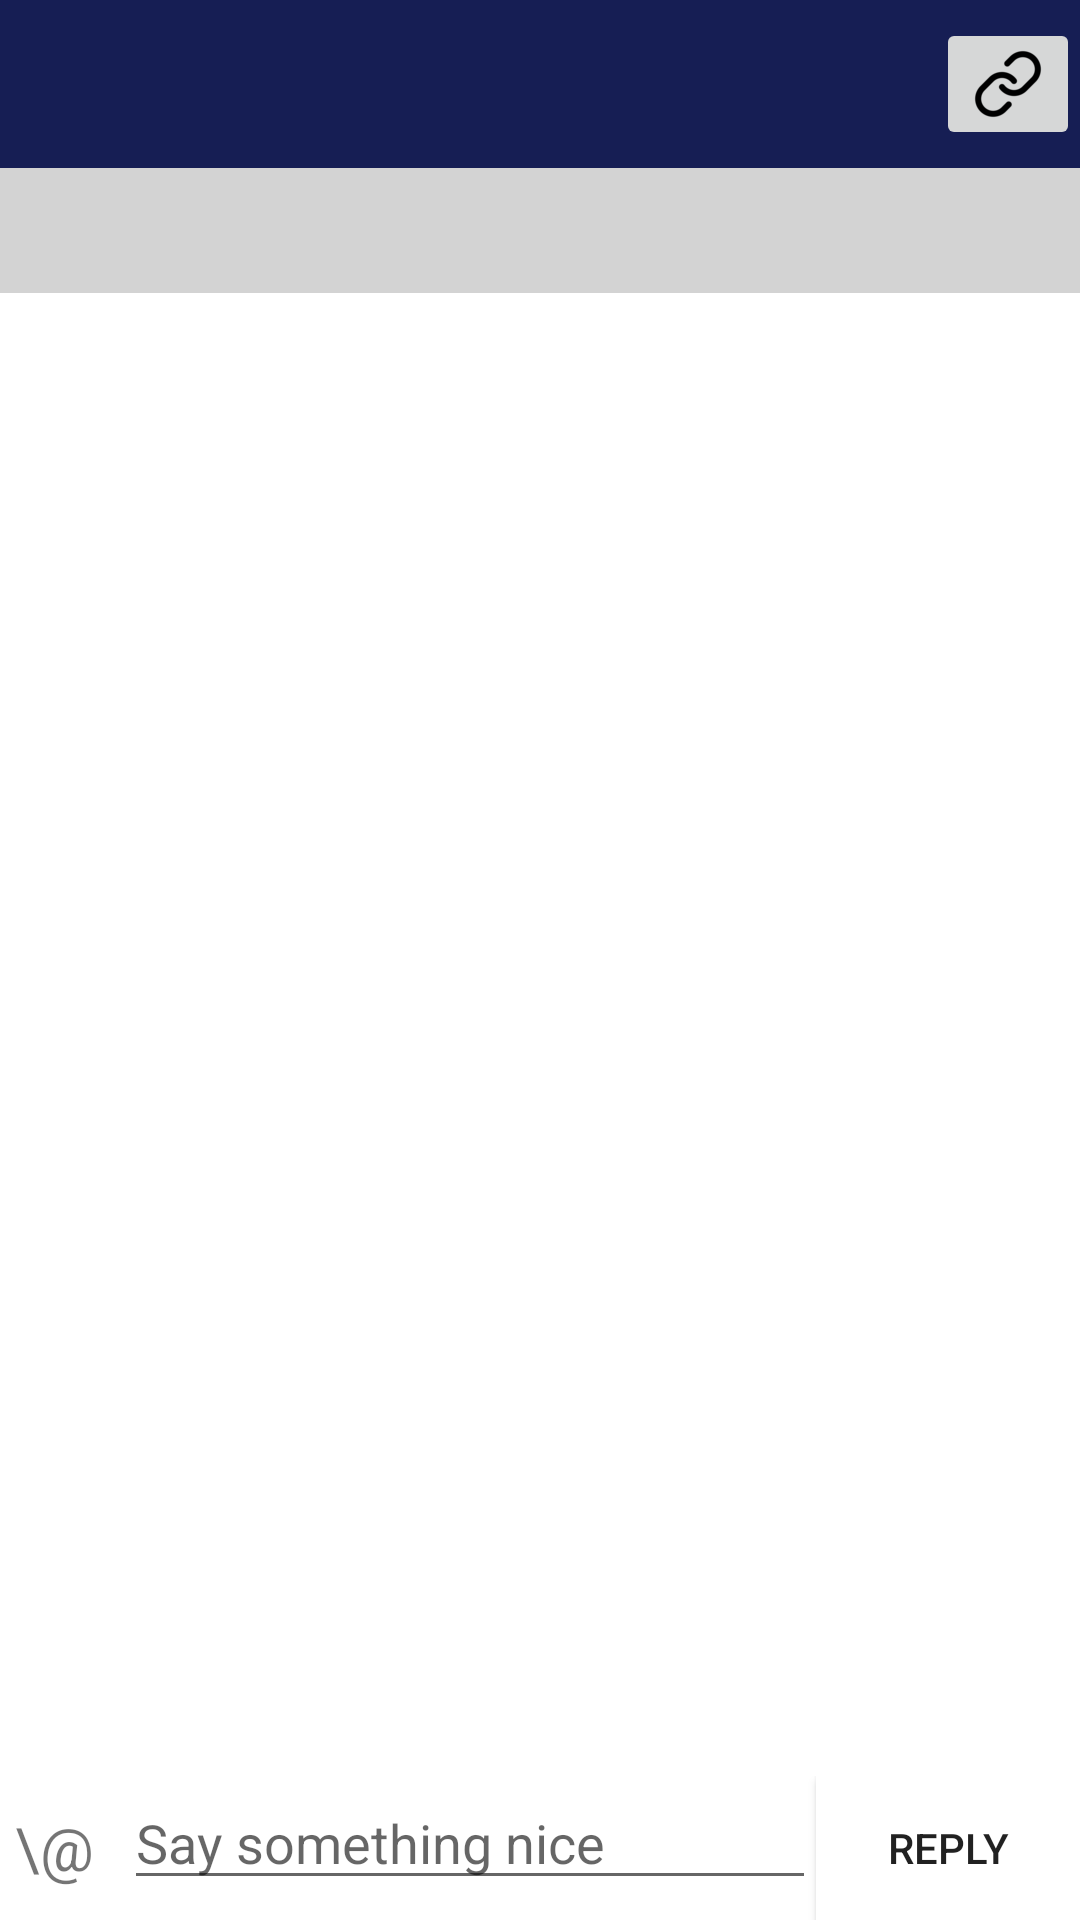

Icon click points for this 1080w x 1920h phone screenshot, format (x=x, y=y):
link: (x=1008, y=84)
